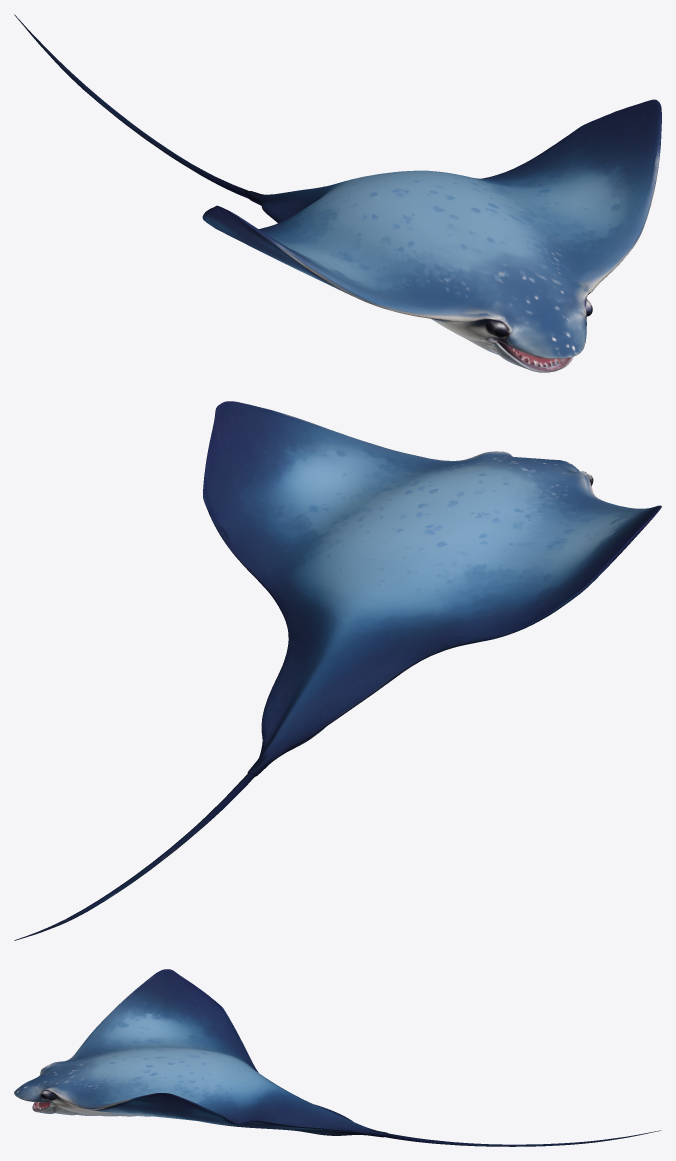
The model's file is mantha1.glb.
3 renders of one model, top to bottom at view 1: azimuth 30°, elevation 25°; view 2: azimuth 150°, elevation 25°; view 3: azimuth 270°, elevation 25°, orthographic. The views are drawn at different scales.
Visible parts, largest first — view 1: material; view 2: material; view 3: material.
Boxes of the visible parts, x1,y1,x2,y2 form: material: (14, 14, 661, 372); material: (14, 401, 661, 940); material: (14, 969, 661, 1146).
Size of the model in its own units: 0.9882 by 0.4284 by 2.18.
1 material, 1 textured.
